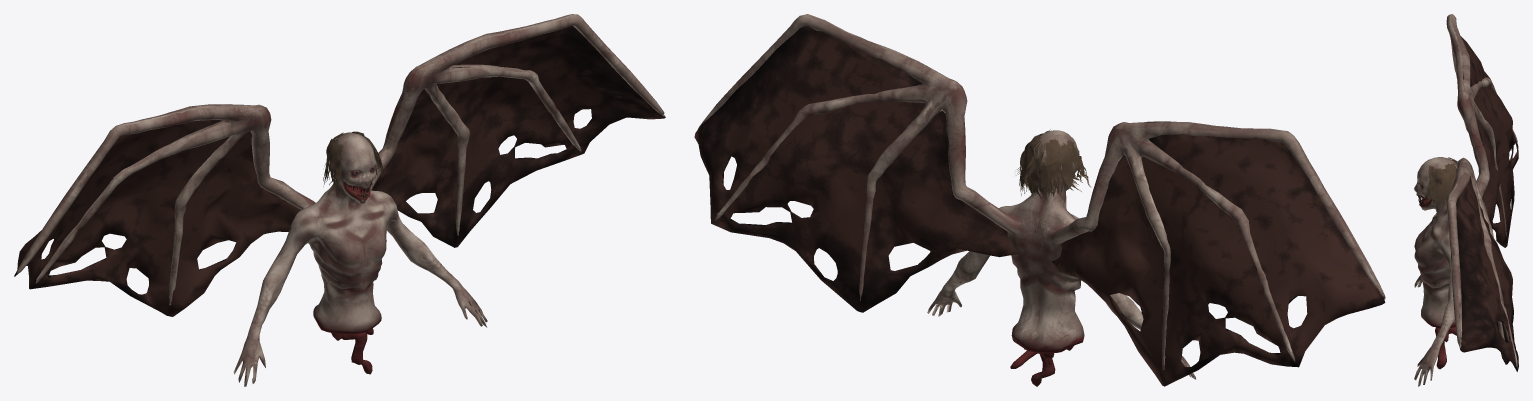
3 renders of one model, left to right at view 1: azimuth 30°, elevation 25°; view 2: azimuth 150°, elevation 25°; view 3: azimuth 270°, elevation 25°, orthographic. The views are drawn at different scales.
Visible parts, largest first — view 1: WingsCloth, Body, Hair; view 2: WingsCloth, Body, Hair; view 3: Body, WingsCloth, Hair.
Part boxes in pixels (bbox=[...]): WingsCloth: bbox=[14, 26, 665, 316]; Body: bbox=[16, 14, 664, 386]; Hair: bbox=[323, 131, 383, 194]; WingsCloth: bbox=[694, 26, 1385, 386]; Body: bbox=[698, 14, 1385, 386]; Hair: bbox=[1016, 129, 1090, 199]; Body: bbox=[1414, 14, 1517, 386]; WingsCloth: bbox=[1456, 36, 1518, 371]; Hair: bbox=[1423, 157, 1457, 216].
Bounding box in the file's own units: 1.57 × 0.7004 × 0.2608.
Materials: 5 (5 with a texture image).
